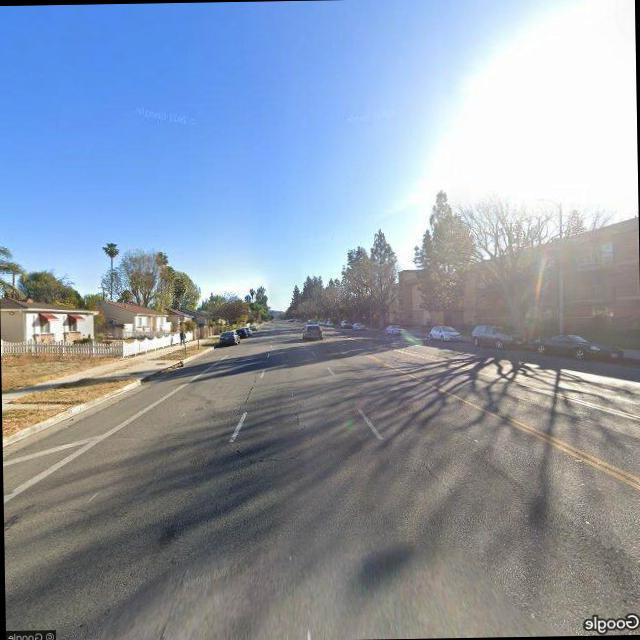pothole: (420, 458, 459, 496)
